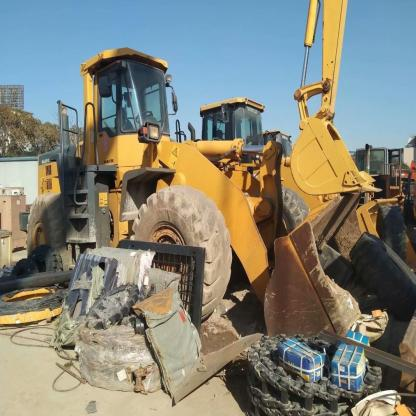bull_dozer/loader/grader: (21, 46, 383, 350)
